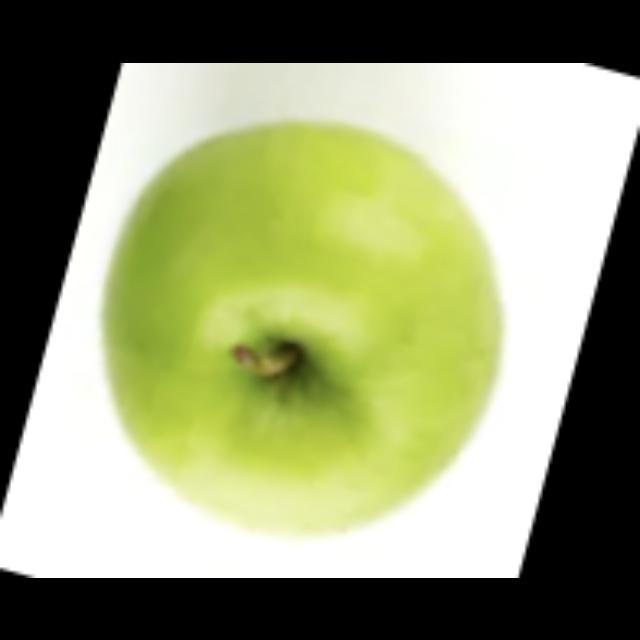Apel Segar: (105, 121, 536, 539)
